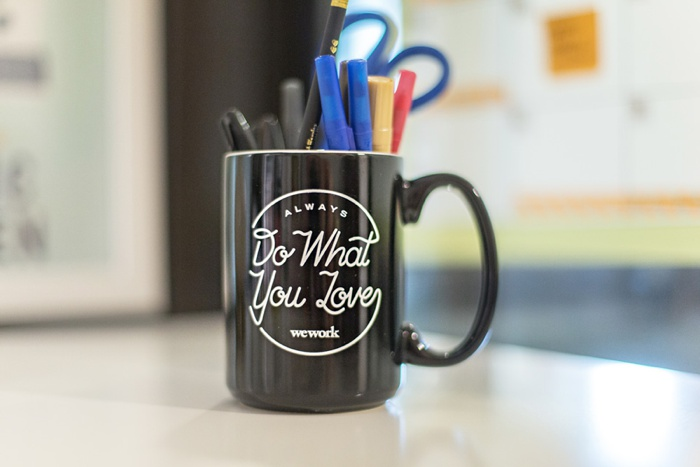wework: (287, 323, 342, 340)
